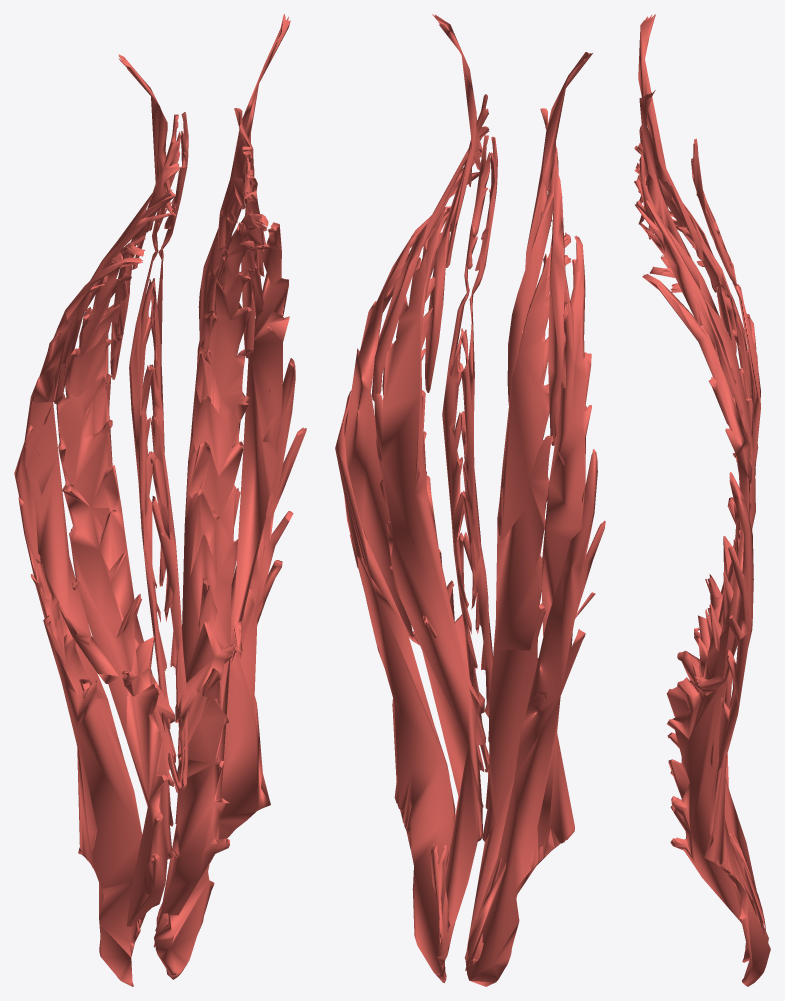
The model's file is supplement-spine-trunk-muscle-erector-spinae.glb.
3 views of the same model, side by side, from view 1: azimuth 30°, elevation 25°; view 2: azimuth 150°, elevation 25°; view 3: azimuth 270°, elevation 25° (orthographic). The views are drawn at different scales.
Visible parts, largest first — view 1: spine-trunk:erector-spinae:isa:FJ1535M, spine-trunk:erector-spinae:isa:FJ1535, spine-trunk:erector-spinae:isa:FJ1527, spine-trunk:erector-spinae:isa:FJ1527M, spine-trunk:erector-spinae:isa:FJ1528M, spine-trunk:erector-spinae:isa:FJ1528, spine-trunk:erector-spinae:isa:FJ1544M, spine-trunk:erector-spinae:isa:FJ1544, spine-trunk:erector-spinae:isa:FJ1533M, spine-trunk:erector-spinae:isa:FJ1534M, spine-trunk:erector-spinae:isa:FJ1526, spine-trunk:erector-spinae:isa:FJ1526M (+3 smaller); view 2: spine-trunk:erector-spinae:isa:FJ1535M, spine-trunk:erector-spinae:isa:FJ1535, spine-trunk:erector-spinae:isa:FJ1527, spine-trunk:erector-spinae:isa:FJ1527M, spine-trunk:erector-spinae:isa:FJ1528, spine-trunk:erector-spinae:isa:FJ1528M, spine-trunk:erector-spinae:isa:FJ1544, spine-trunk:erector-spinae:isa:FJ1544M, spine-trunk:erector-spinae:isa:FJ1526, spine-trunk:erector-spinae:isa:FJ1526M, spine-trunk:erector-spinae:isa:FJ1534, spine-trunk:erector-spinae:isa:FJ1534M (+4 smaller); view 3: spine-trunk:erector-spinae:isa:FJ1535M, spine-trunk:erector-spinae:isa:FJ1527M, spine-trunk:erector-spinae:isa:FJ1528M, spine-trunk:erector-spinae:isa:FJ1535, spine-trunk:erector-spinae:isa:FJ1526M, spine-trunk:erector-spinae:isa:FJ1533, spine-trunk:erector-spinae:isa:FJ1527, spine-trunk:erector-spinae:isa:FJ1533M, spine-trunk:erector-spinae:isa:FJ1544M, spine-trunk:erector-spinae:isa:FJ1534, spine-trunk:erector-spinae:isa:FJ1534M, spine-trunk:erector-spinae:isa:FJ1543M.
Part boxes in pixels (x1,y1,x2,y2): spine-trunk:erector-spinae:isa:FJ1535M: (155,209,268,946); spine-trunk:erector-spinae:isa:FJ1535: (56,235,174,927); spine-trunk:erector-spinae:isa:FJ1527: (14,421,142,986); spine-trunk:erector-spinae:isa:FJ1527M: (153,358,306,979); spine-trunk:erector-spinae:isa:FJ1528M: (233,222,289,651); spine-trunk:erector-spinae:isa:FJ1528: (24,257,143,683); spine-trunk:erector-spinae:isa:FJ1544M: (149,248,188,791); spine-trunk:erector-spinae:isa:FJ1544: (129,250,181,792); spine-trunk:erector-spinae:isa:FJ1533M: (217,14,290,248); spine-trunk:erector-spinae:isa:FJ1534M: (198,108,253,357); spine-trunk:erector-spinae:isa:FJ1526: (53,168,179,404); spine-trunk:erector-spinae:isa:FJ1526M: (241,150,265,358); spine-trunk:erector-spinae:isa:FJ1535M: (374,206,484,947); spine-trunk:erector-spinae:isa:FJ1535: (466,232,571,965); spine-trunk:erector-spinae:isa:FJ1527: (464,449,605,986); spine-trunk:erector-spinae:isa:FJ1527M: (335,390,455,982); spine-trunk:erector-spinae:isa:FJ1528: (541,235,591,635); spine-trunk:erector-spinae:isa:FJ1528M: (344,215,431,645); spine-trunk:erector-spinae:isa:FJ1544: (461,295,492,742); spine-trunk:erector-spinae:isa:FJ1544M: (442,289,489,767); spine-trunk:erector-spinae:isa:FJ1526: (548,164,570,445); spine-trunk:erector-spinae:isa:FJ1526M: (371,130,489,401); spine-trunk:erector-spinae:isa:FJ1534: (507,108,558,404); spine-trunk:erector-spinae:isa:FJ1534M: (425,94,489,392); spine-trunk:erector-spinae:isa:FJ1535M: (649,255,755,921); spine-trunk:erector-spinae:isa:FJ1527M: (704,472,770,986); spine-trunk:erector-spinae:isa:FJ1528M: (642,274,750,695); spine-trunk:erector-spinae:isa:FJ1535: (666,210,755,830); spine-trunk:erector-spinae:isa:FJ1526M: (634,179,745,431); spine-trunk:erector-spinae:isa:FJ1533: (638,14,703,260); spine-trunk:erector-spinae:isa:FJ1527: (717,497,768,962); spine-trunk:erector-spinae:isa:FJ1533M: (638,90,692,259); spine-trunk:erector-spinae:isa:FJ1544M: (720,282,760,629); spine-trunk:erector-spinae:isa:FJ1534: (635,112,736,353); spine-trunk:erector-spinae:isa:FJ1534M: (636,140,719,316); spine-trunk:erector-spinae:isa:FJ1543M: (691,142,736,286).
Bounding box in the file's own units: 0.2037 × 0.6697 × 0.0898.
